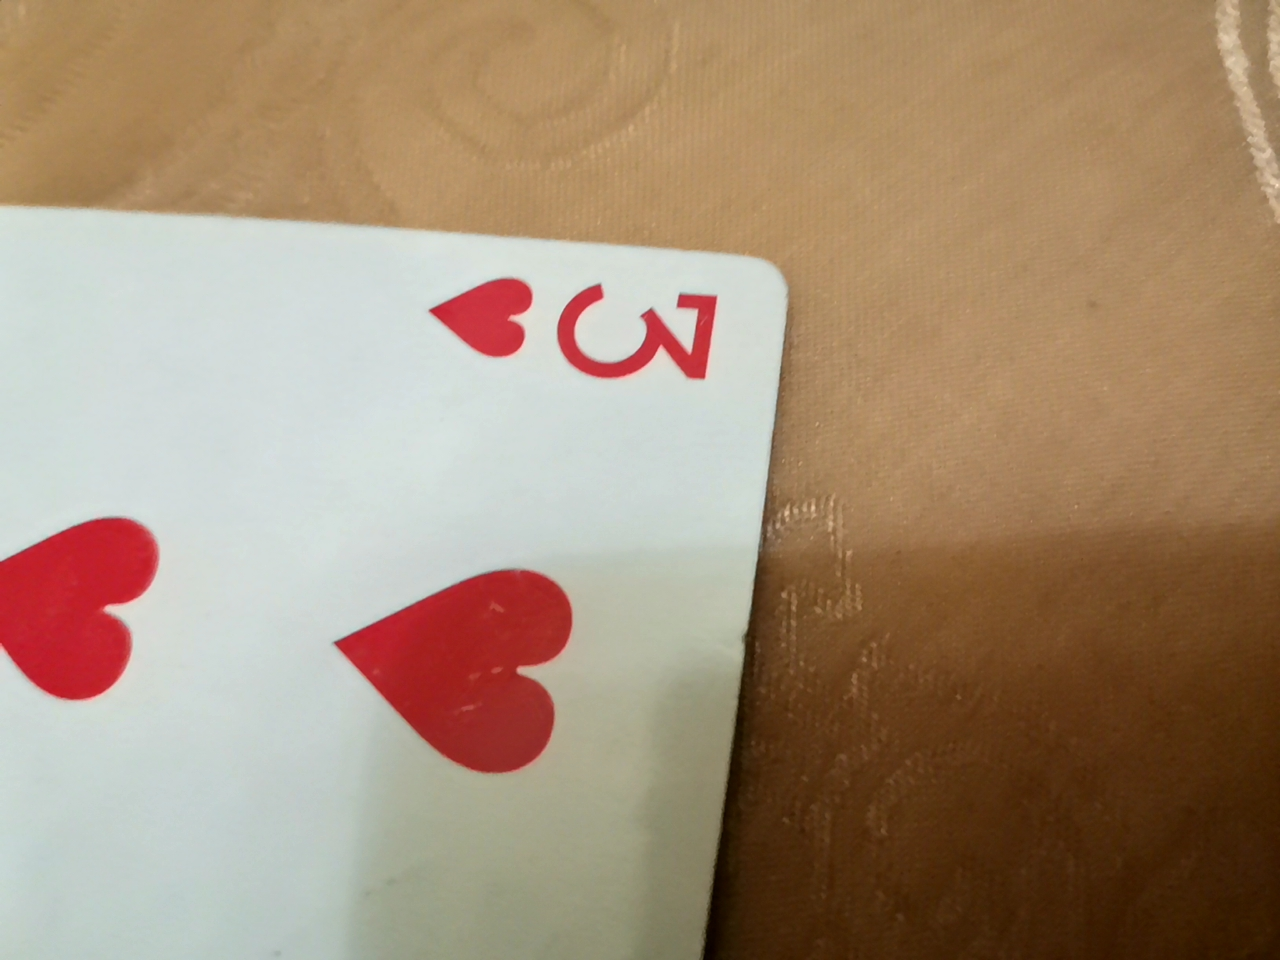hx 3: (9, 168, 793, 958)
